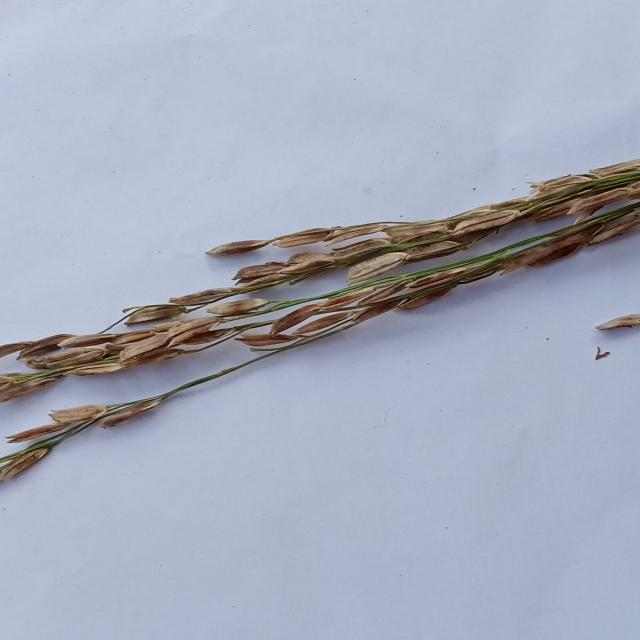Neck_Blast: (3, 160, 638, 402)
